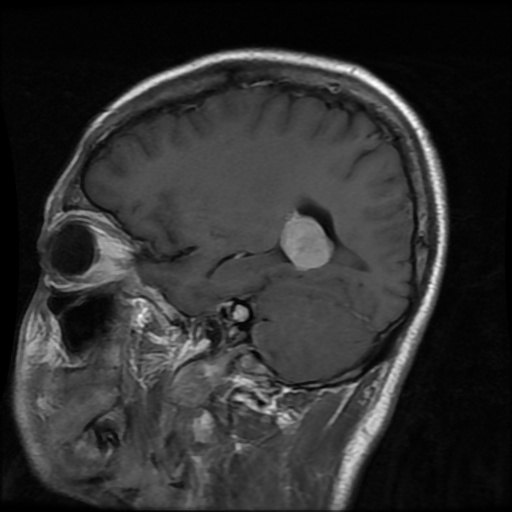meningioma: (282, 215, 331, 268)
